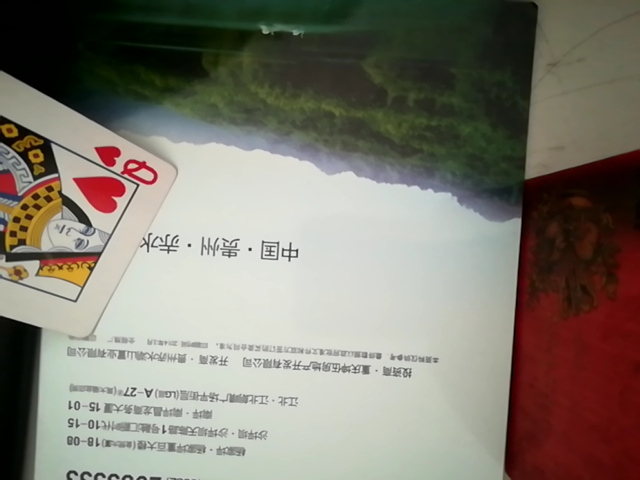hx q: (0, 46, 172, 348)
